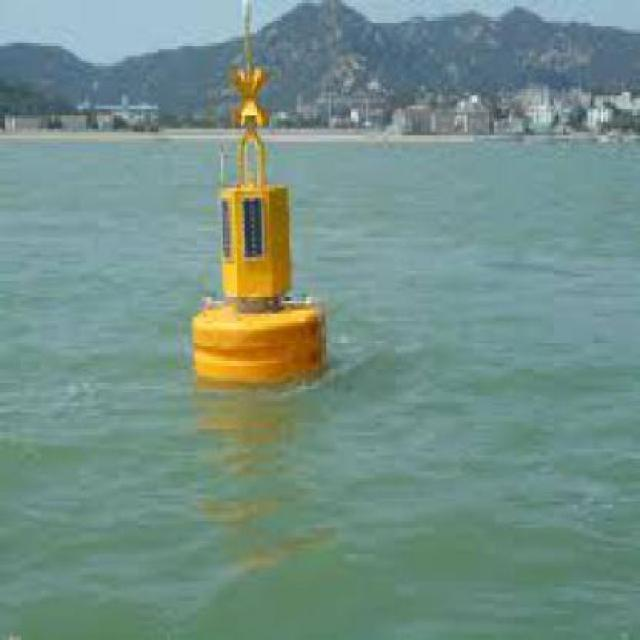buoy: (186, 11, 342, 394)
